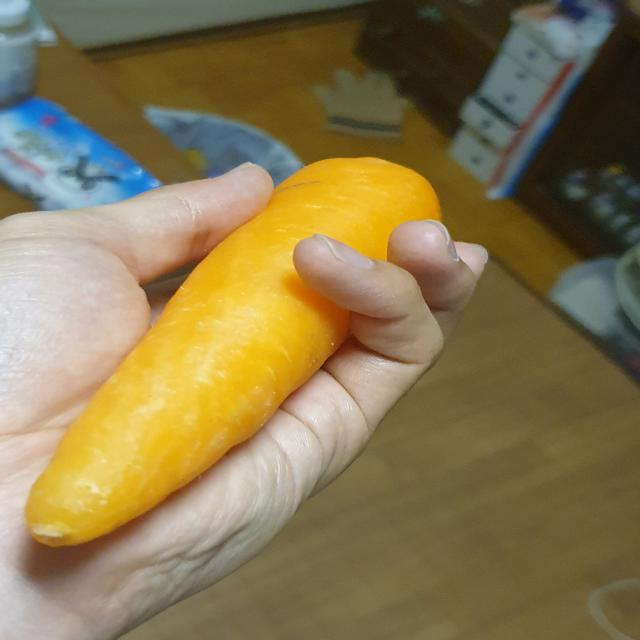Carrot: (22, 150, 454, 554)
